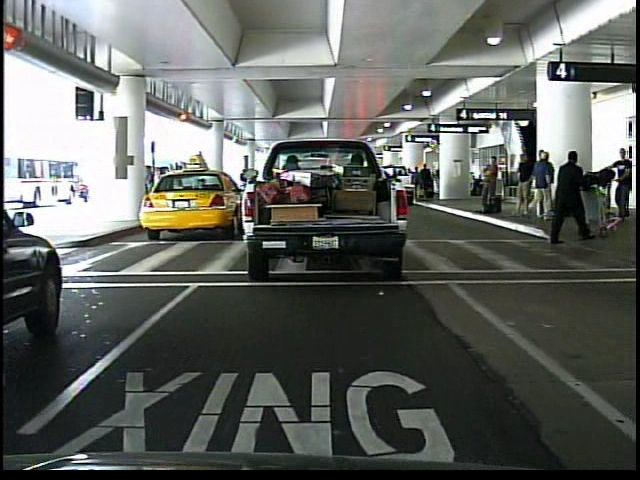person: (546, 150, 595, 248), (612, 145, 637, 224), (530, 146, 555, 224)
